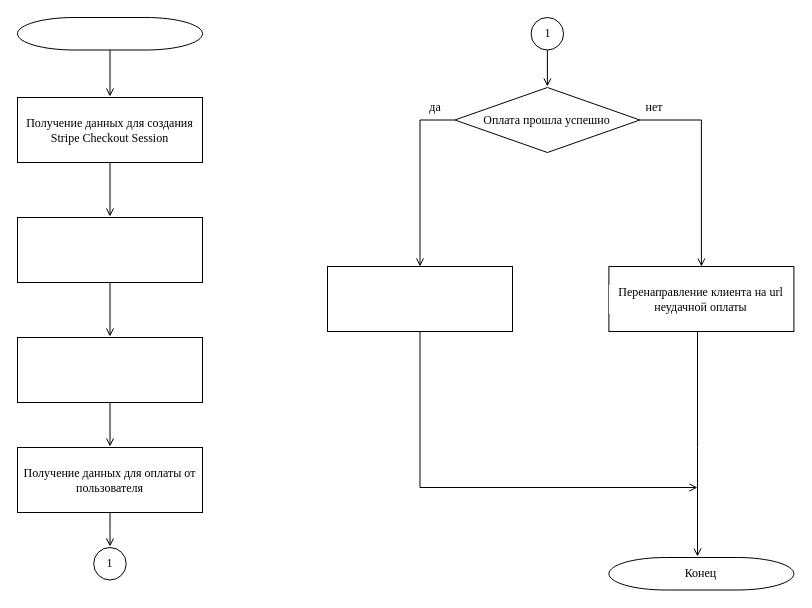
Image size: 812x608. Some labels were removed from this diagram. The box of each missing label's shape, as (x1, y1, x2, y2) in pixels:
Начало: (16, 16, 202, 50)
Отправка пользователю URL для оплаты: (16, 336, 202, 402)
Создание Stripe Checkout Session: (16, 216, 202, 282)
Создание объекта заказа в базе данных: (326, 266, 512, 332)
